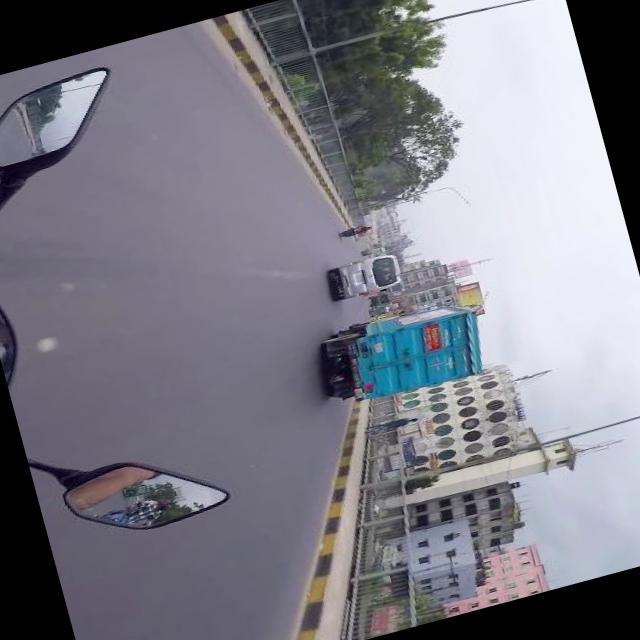car: (367, 292, 391, 308)
motorcycle: (0, 54, 255, 558), (338, 221, 375, 240), (370, 304, 392, 318), (362, 248, 376, 256)
truck: (319, 295, 492, 412), (328, 249, 408, 303)
